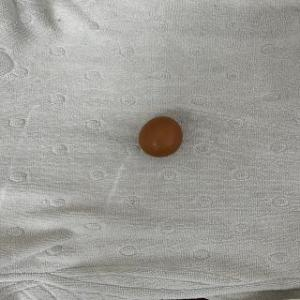egg: (138, 114, 183, 160)
